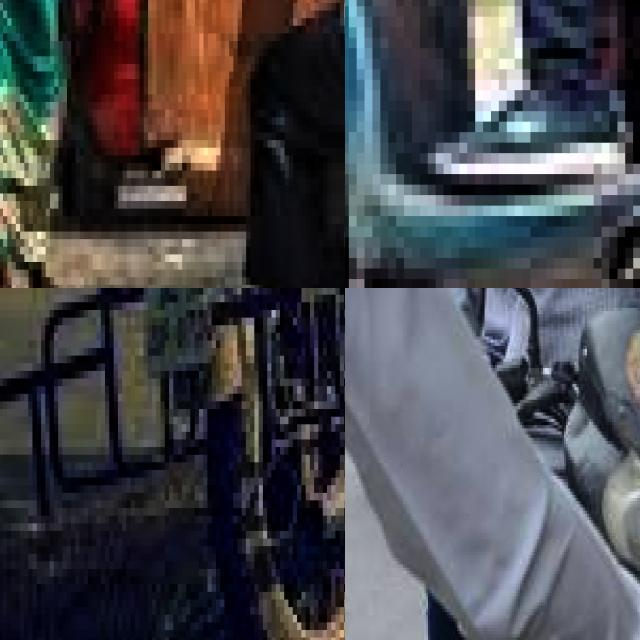bike: (45, 288, 345, 640), (345, 0, 640, 288), (411, 288, 640, 640)
